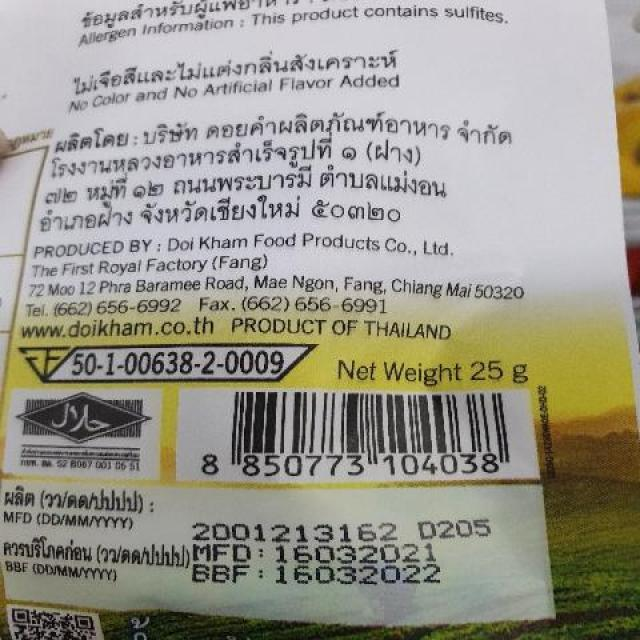Barcode: (183, 387, 540, 482)
